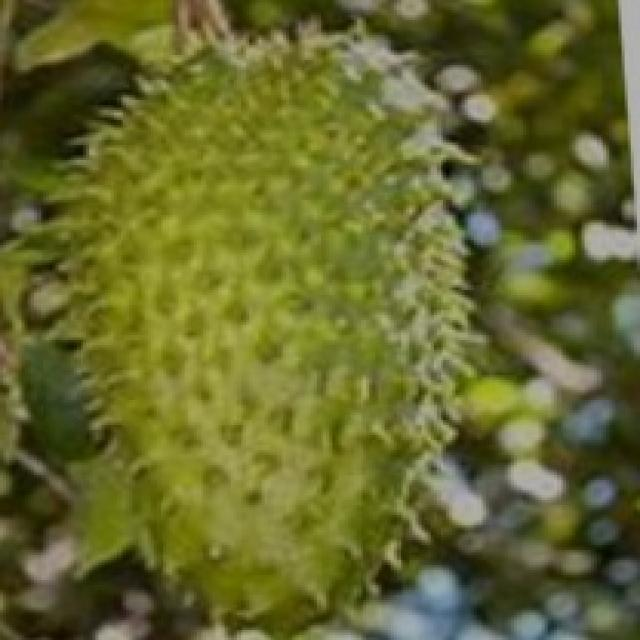fruit: (452, 2, 640, 262)
